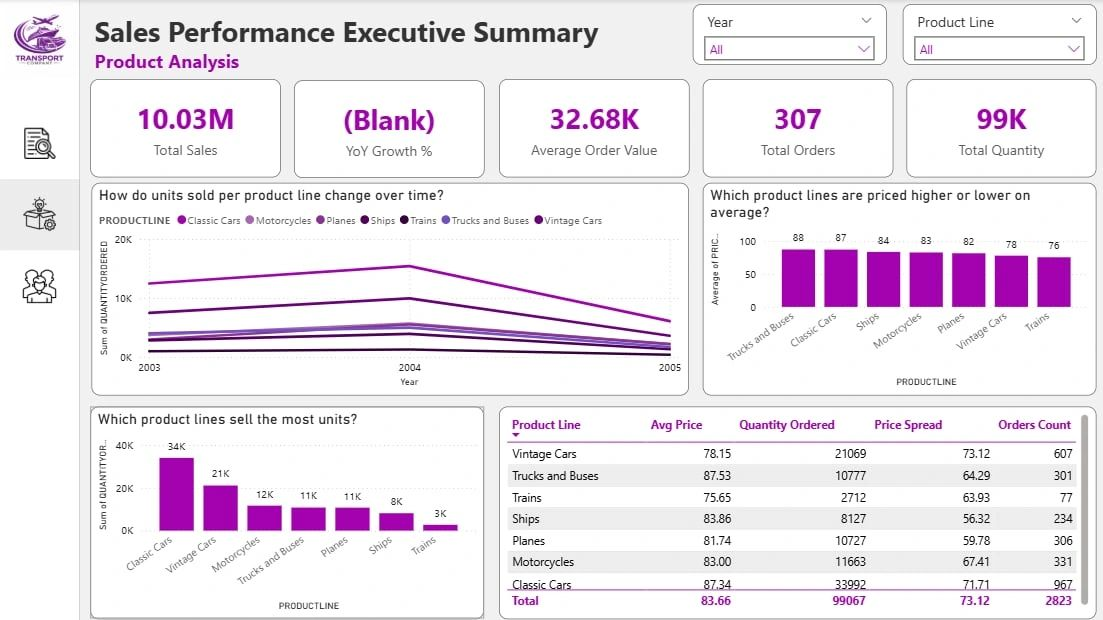

Layout of this report page (visuals, bound fields, positions):
{"tool":"powerbi","page":{"name":"Product Analysis","canvas":[1280,720],"ordinal":1},"visuals":[{"type":"shape","box":[0,0,93.3,720],"z":0},{"type":"textbox","box":[105.3,51.9,217.9,43.3],"z":1000},{"type":"card","fields":{"Values":["_Measures.Total Sales"]},"box":[105.5,92.4,220,113.9],"z":2000},{"type":"card","fields":{"Values":["_Measures.Total Quantity"]},"box":[1047.4,92.4,219.3,114],"z":3000},{"type":"card","fields":{"Values":["_Measures.Total Orders"]},"box":[812,92.4,220,114],"z":4000},{"type":"card","fields":{"Values":["_Measures.Average Order Value"]},"box":[576.5,92.4,220,114],"z":5000},{"type":"textbox","box":[105.3,10.1,631.9,56.3],"z":6000},{"type":"image","box":[0,5.8,93.8,85.1],"z":7000},{"type":"slicer","fields":{"Values":["DateTable.Year"]},"box":[800.7,5.8,223.6,70.7],"z":8000},{"type":"slicer","fields":{"Values":["Dim_Product.PRODUCTLINE"]},"box":[1043.1,5.8,223.6,70.7],"z":9000},{"type":"card","fields":{"Values":["_Measures.YoY Growth %"]},"box":[341,93.1,220,112.5],"z":10000},{"type":"clusteredColumnChart","title":"Which product lines are priced higher or lower on average?","fields":{"Category":["Dim_Product.PRODUCTLINE"],"Y":["Avg(Fact_Sales.PRICEEACH)"]},"box":[812.3,212.1,454.5,245.3],"z":11000},{"type":"clusteredColumnChart","title":"Which product lines sell the most units?","fields":{"Category":["Dim_Product.PRODUCTLINE"],"Y":["Sum(Fact_Sales.QUANTITYORDERED)"]},"box":[105.3,470.3,454.5,245.3],"z":12000},{"type":"lineChart","title":"How do units sold per product line change over time?","fields":{"Category":["DateTable.DateHierarchy.Year","DateTable.DateHierarchy.Quarter","DateTable.DateHierarchy.Month","DateTable.DateHierarchy.Date"],"Series":["Dim_Product.PRODUCTLINE"],"Y":["Sum(Fact_Sales.QUANTITYORDERED)"]},"box":[106.8,212.1,689.6,245.3],"z":13000},{"type":"tableEx","fields":{"Values":["Dim_Product.PRODUCTLINE","Avg(Fact_Sales.PRICEEACH)","Sum(Fact_Sales.QUANTITYORDERED)","_Measures.Price Spread","CountNonNull(Fact_Sales.ORDERNUMBER)"]},"box":[577.1,470.3,689.6,245.3],"z":14000},{"type":"image","box":[10.8,228,70.7,40.4],"z":15000},{"type":"image","box":[10.8,311.6,70.7,40.4],"z":16000},{"type":"image","box":[10.8,148.6,70.7,36.1],"z":17000},{"type":"shape","box":[0,207.8,93.8,82.2],"z":18000}]}

Visuals, with their boxes on the page's 1280x720 design canvas (x1, y1, x2, y2). These are canvas units, not pixel positions in the 1103x620 screenshot, which may show the page scaled, cropped or inside an application window:
shape: bbox=(0, 0, 93, 720)
textbox: bbox=(105, 52, 323, 95)
card - _Measures.Total Sales: bbox=(106, 92, 326, 206)
card - _Measures.Total Quantity: bbox=(1047, 92, 1267, 206)
card - _Measures.Total Orders: bbox=(812, 92, 1032, 206)
card - _Measures.Average Order Value: bbox=(576, 92, 796, 206)
textbox: bbox=(105, 10, 737, 66)
image: bbox=(0, 6, 94, 91)
slicer - DateTable.Year: bbox=(801, 6, 1024, 76)
slicer - Dim_Product.PRODUCTLINE: bbox=(1043, 6, 1267, 76)
card - _Measures.YoY Growth %: bbox=(341, 93, 561, 206)
"Which product lines are priced higher or lower on average?" clusteredColumnChart: bbox=(812, 212, 1267, 457)
"Which product lines sell the most units?" clusteredColumnChart: bbox=(105, 470, 560, 716)
"How do units sold per product line change over time?" lineChart: bbox=(107, 212, 796, 457)
tableEx - Dim_Product.PRODUCTLINE x Avg(Fact_Sales.PRICEEACH): bbox=(577, 470, 1267, 716)
image: bbox=(11, 228, 82, 268)
image: bbox=(11, 312, 82, 352)
image: bbox=(11, 149, 82, 185)
shape: bbox=(0, 208, 94, 290)
